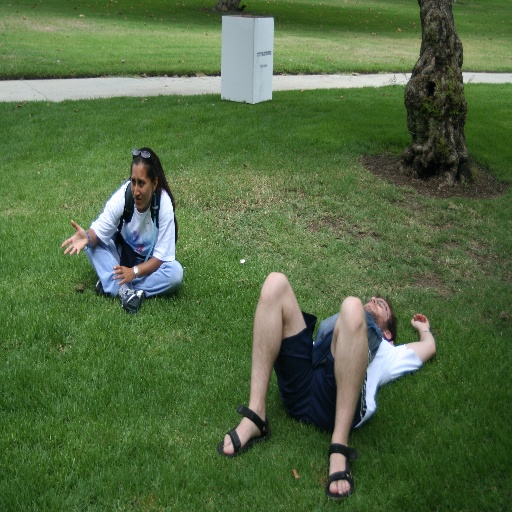hand: (57, 214, 95, 263), (111, 264, 134, 288), (410, 312, 430, 331)
